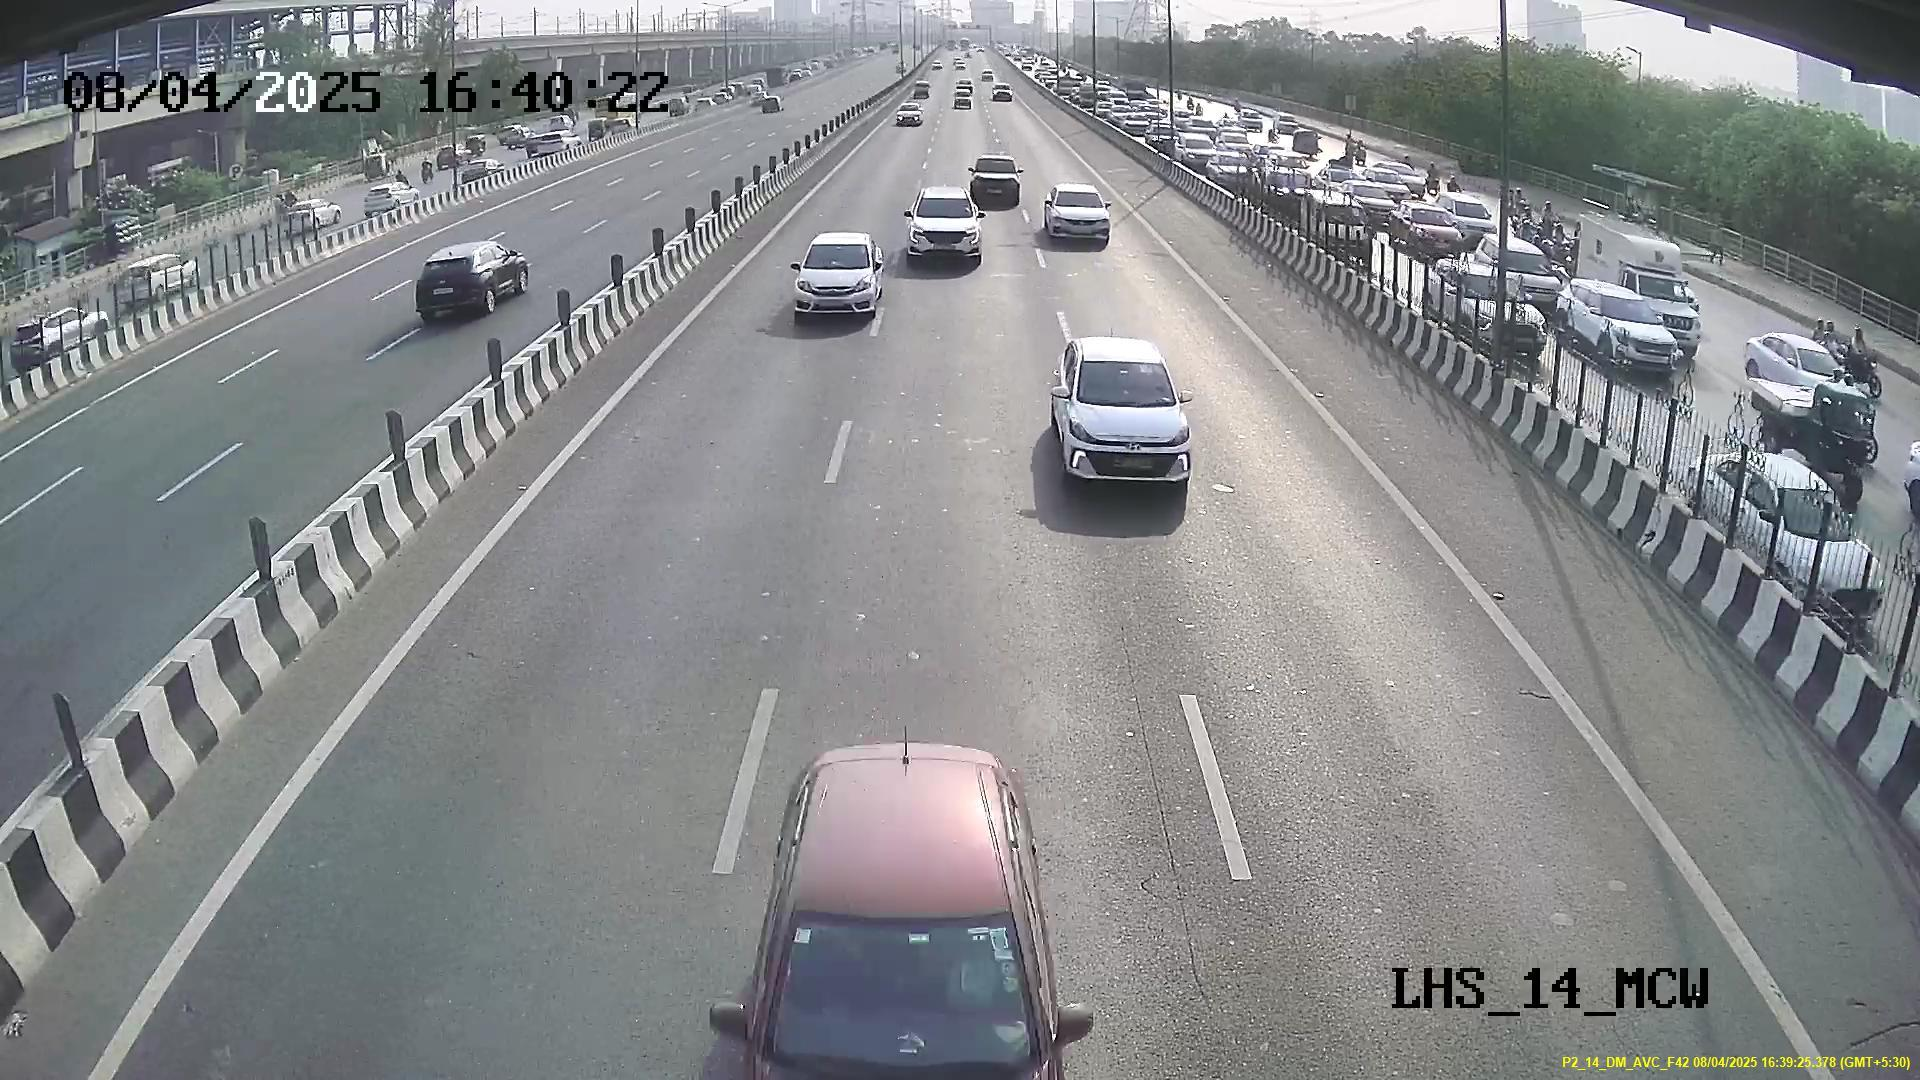car: (1051, 330, 1197, 492), (783, 228, 886, 319)
